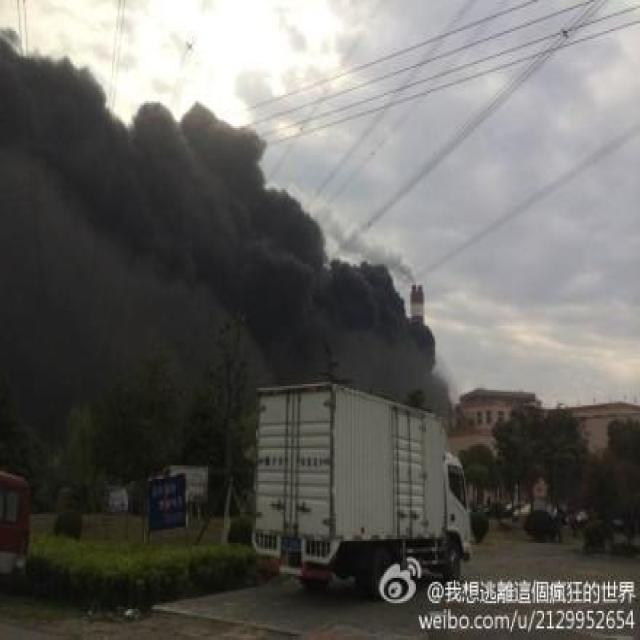Smoke: (0, 13, 467, 456)
